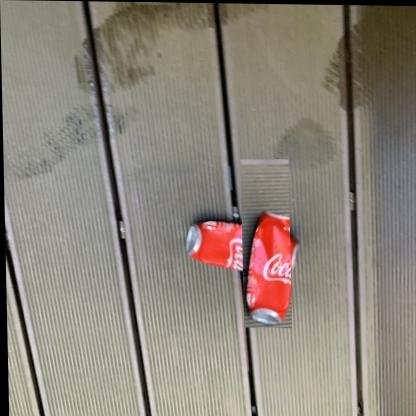trash: (246, 212, 294, 323), (186, 221, 242, 270)
